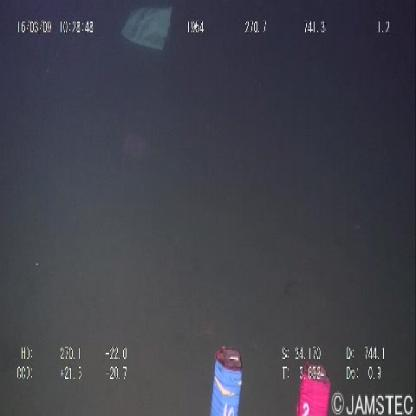Rác: (119, 1, 175, 58)
